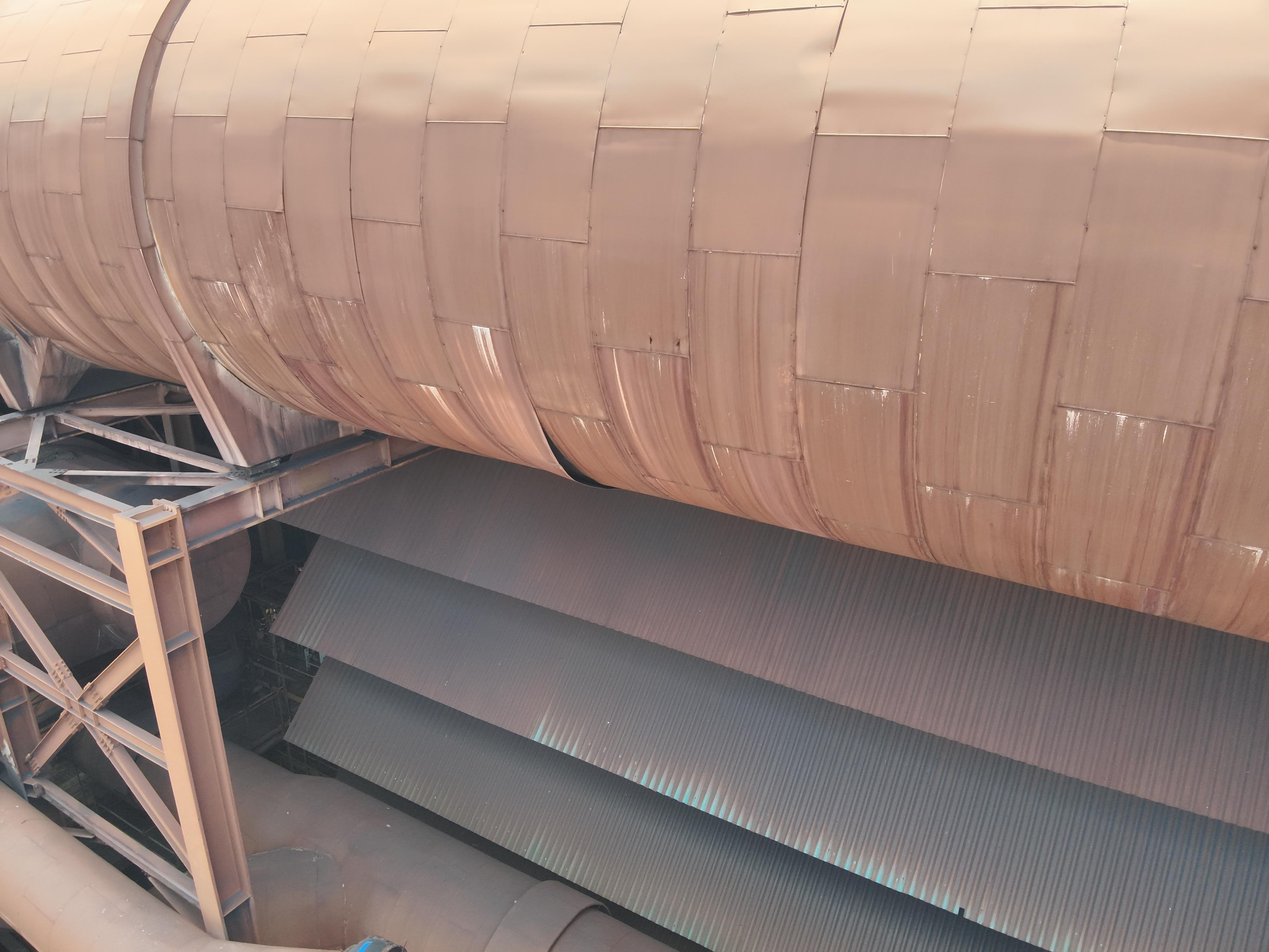Failures: (443, 301, 646, 536)
